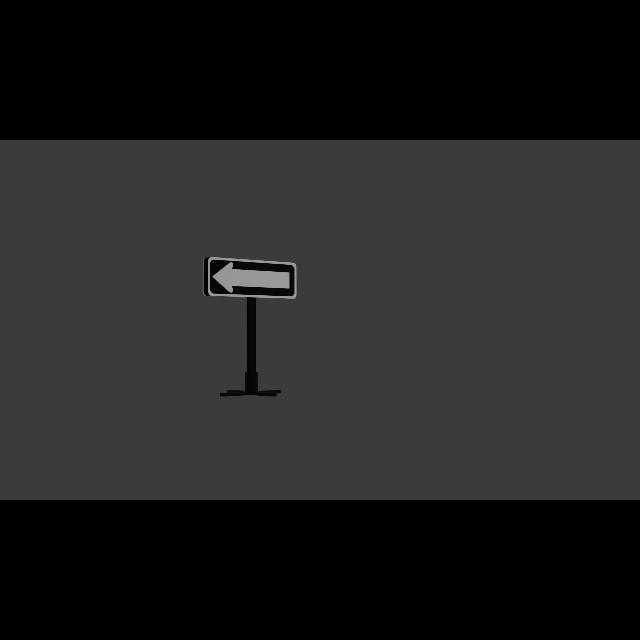sign_oneway_left: (202, 256, 298, 302)
